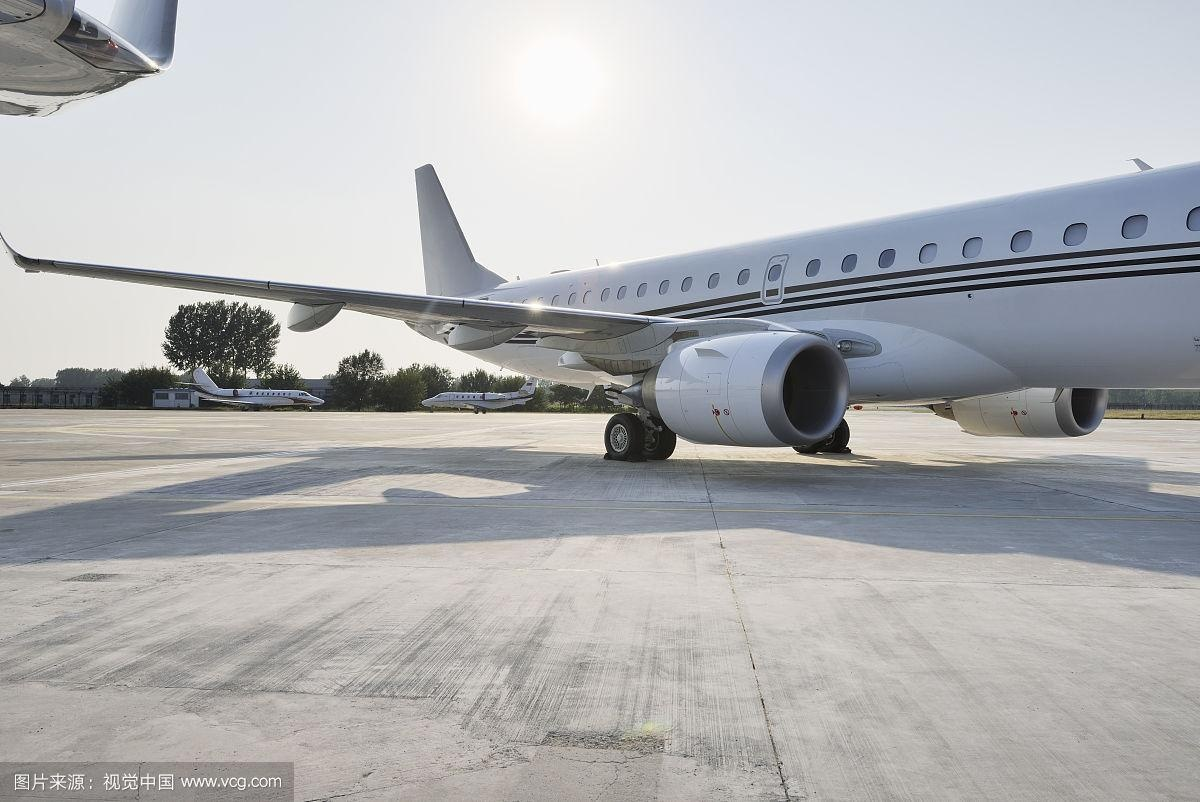airplane: (9, 161, 1200, 448)
